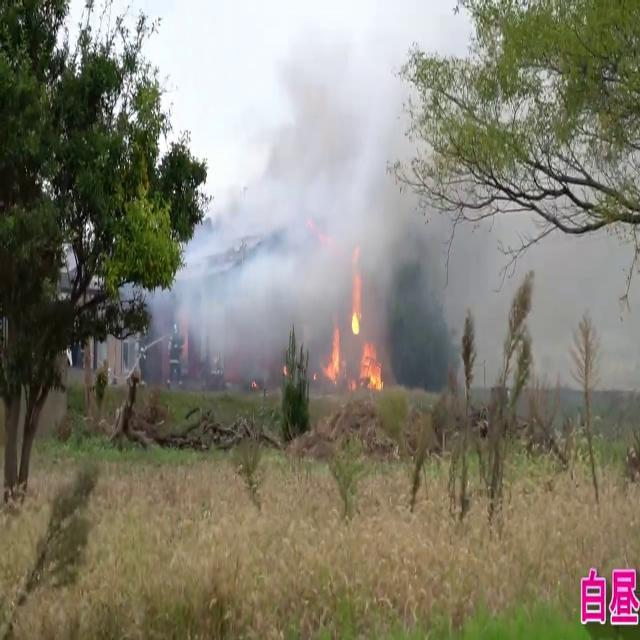Fire: (324, 256, 384, 396)
Smoke: (169, 17, 464, 389)
